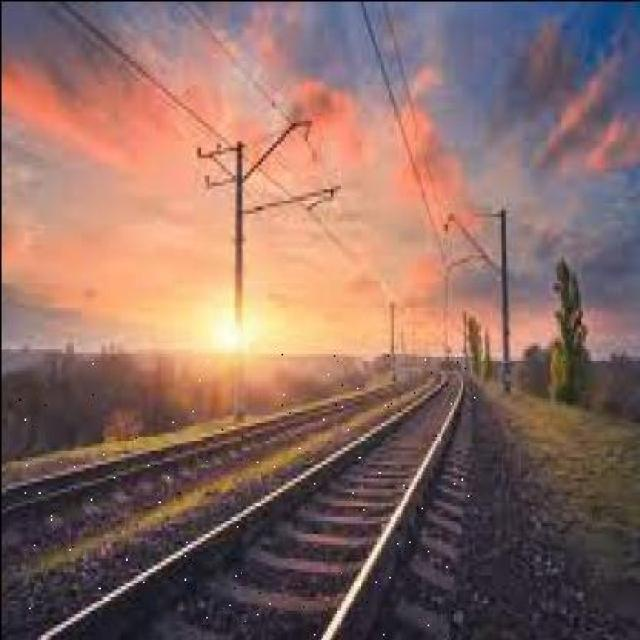rail: (5, 353, 475, 635)
